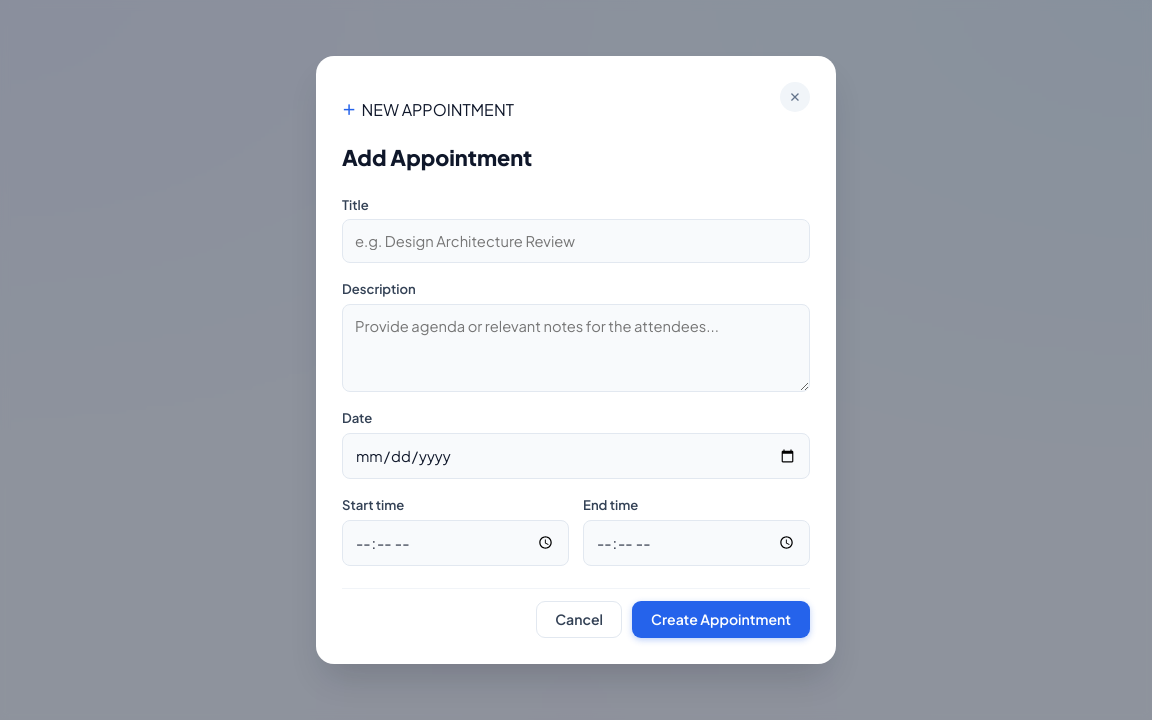
Scenario: AppointmentForm › validates required date
Type "Dental Checkup" into the field labelled "Title" at (576, 241), box [342, 219, 810, 263]
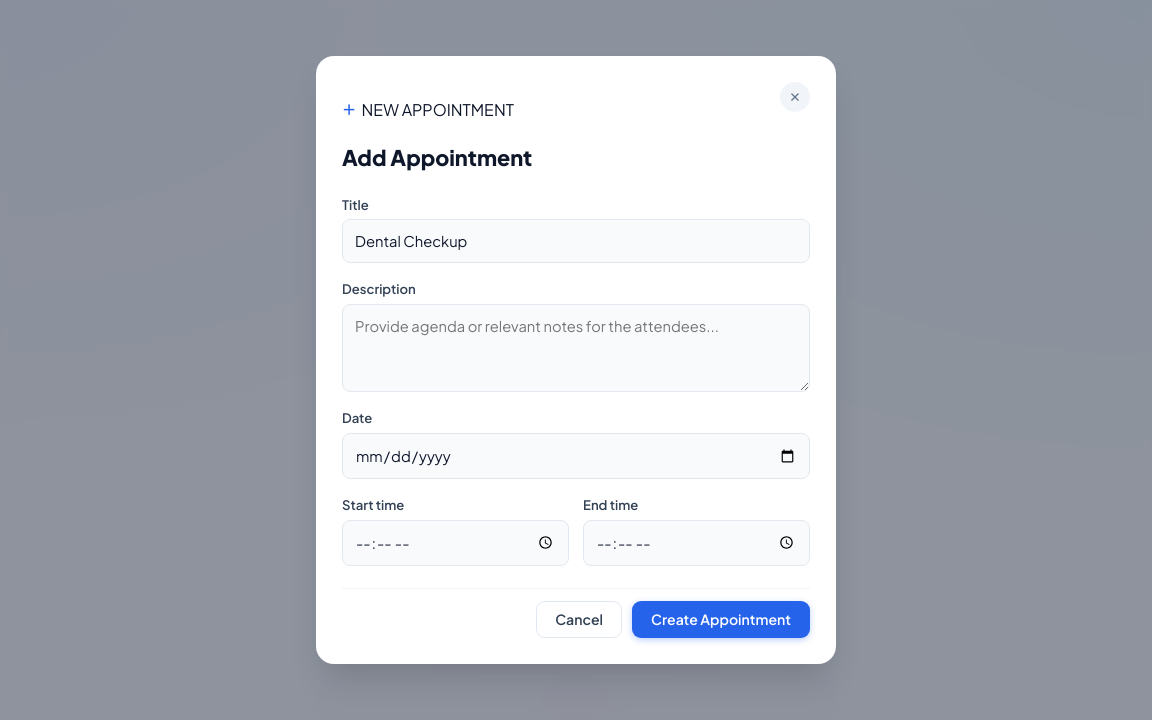
Click the button "Create Appointment" at (721, 619), box [632, 601, 810, 638]
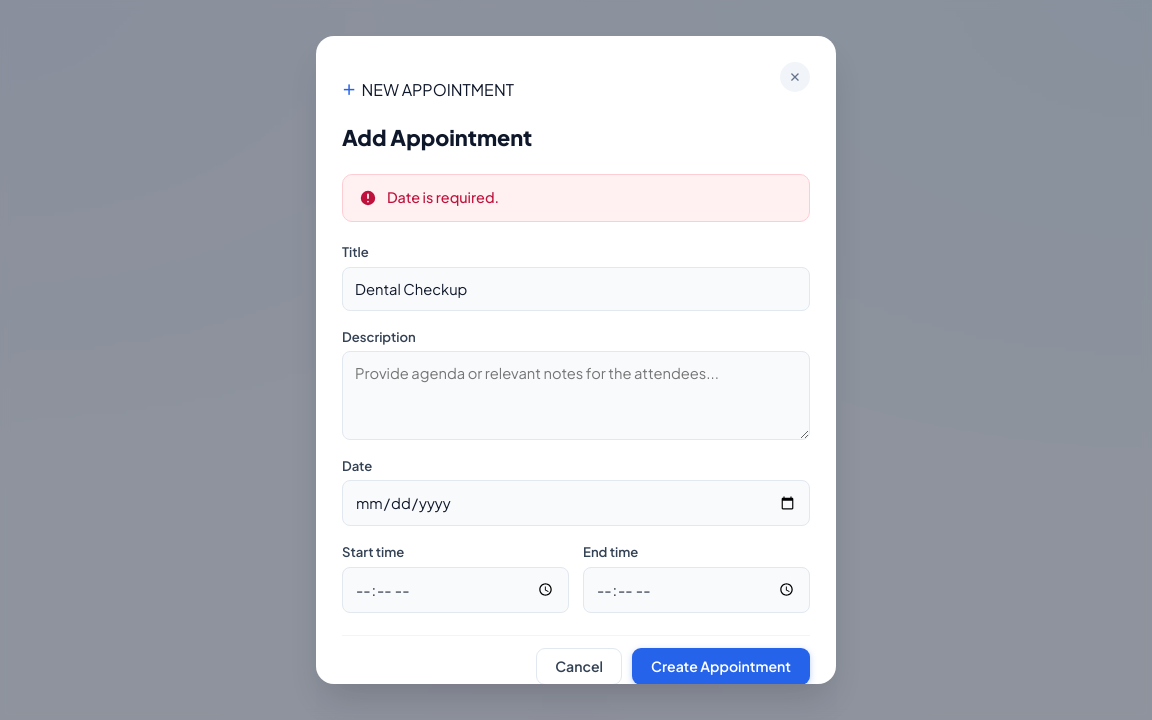
Result: the message reads "Date is required." at [387, 188, 499, 206]
